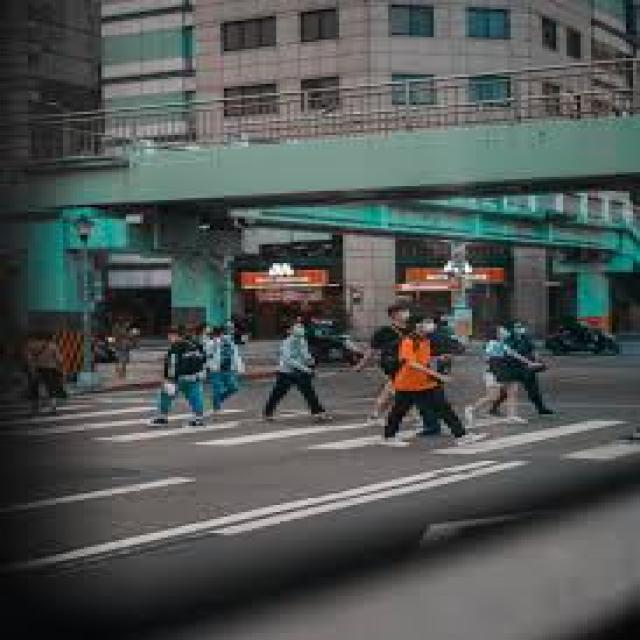Pedestrians: (367, 312, 493, 447), (259, 323, 339, 426), (150, 324, 210, 431)
